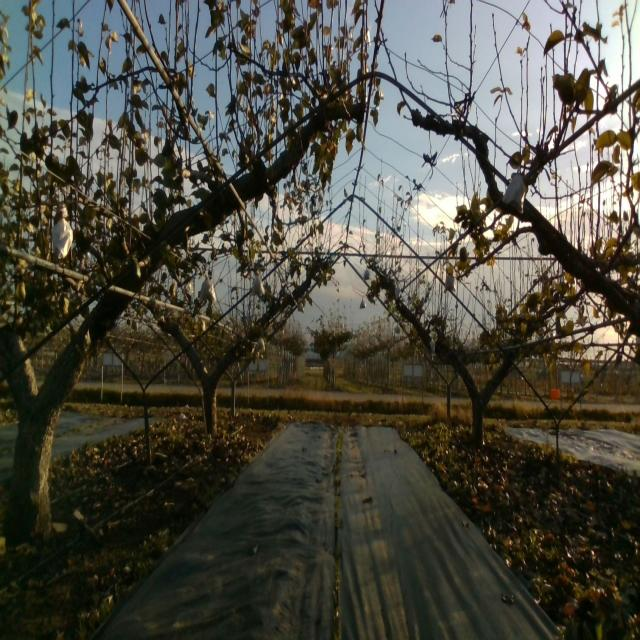pearbags: (51, 201, 73, 259), (501, 171, 525, 216), (197, 275, 218, 303), (249, 268, 266, 296), (444, 274, 456, 294)
